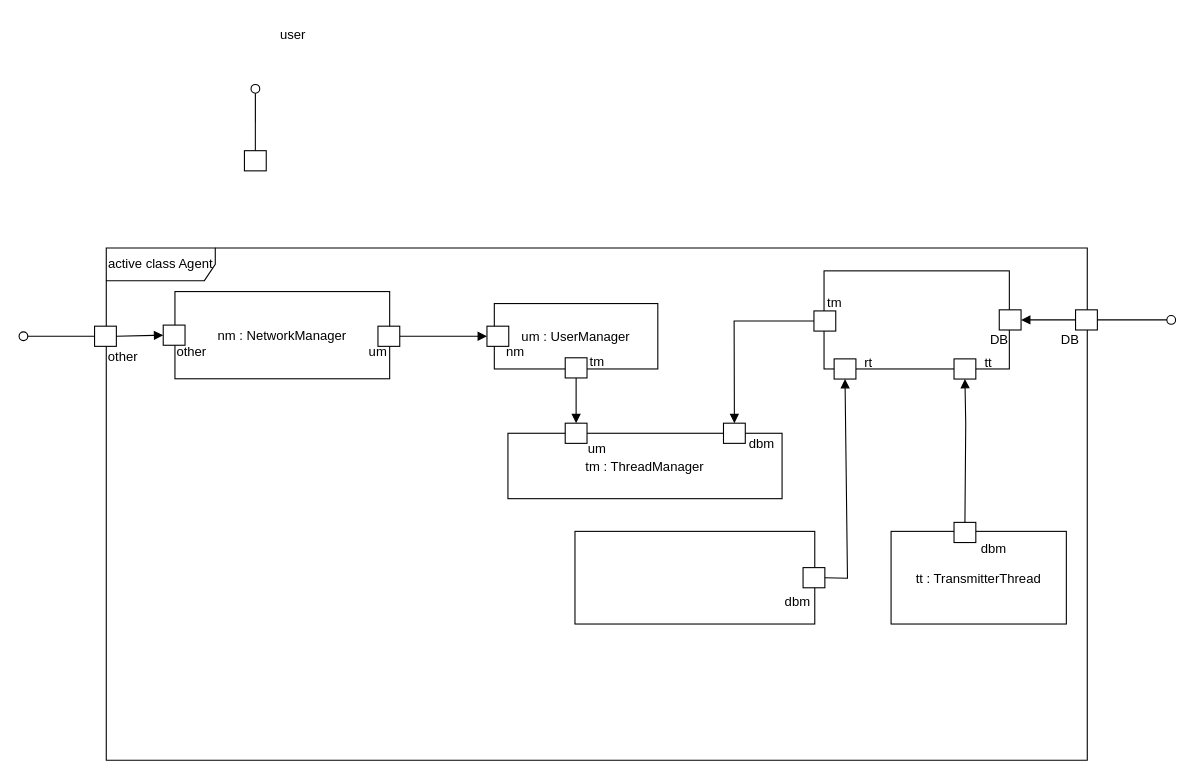
This 1195x779 diagram has some shape labels left out. Each missing label, with the box of its shape:
dbm : DBManager: (823, 270, 1009, 369)
rt : ReceiverThread: (574, 530, 815, 624)
